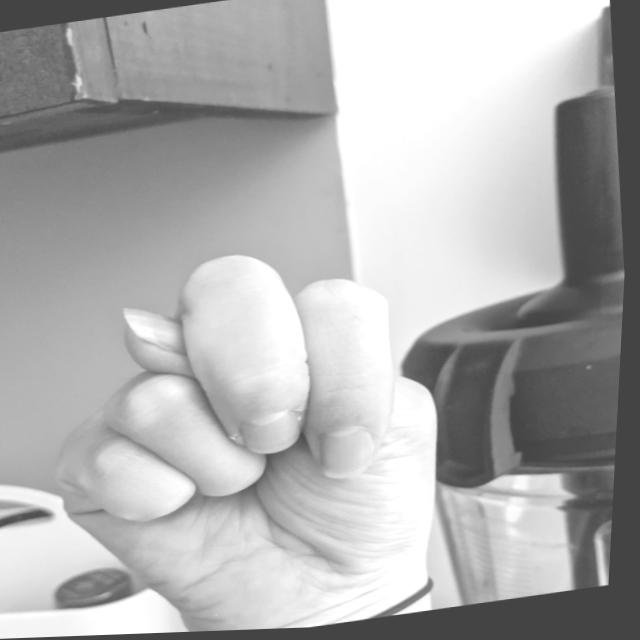N: (24, 221, 480, 638)
